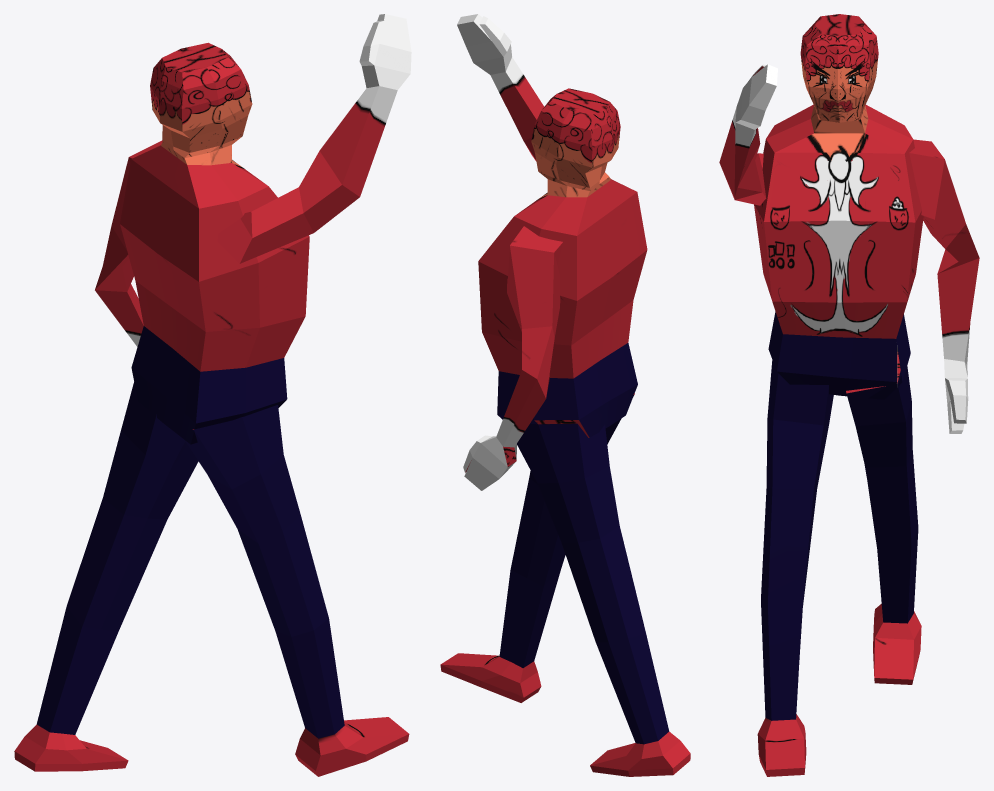
File: MecQuiTientLePoteau.fbx
3 views of the same model, side by side, from view 1: azimuth 30°, elevation 25°; view 2: azimuth 150°, elevation 25°; view 3: azimuth 270°, elevation 25° (orthographic). The views are drawn at different scales.
Visible parts, largest first — view 1: Cube.001; view 2: Cube.001; view 3: Cube.001.
Boxes of the visible parts, <box> form: Cube.001: <box>14,14,411,776</box>; Cube.001: <box>440,14,690,776</box>; Cube.001: <box>719,14,979,776</box>.
Size of the model in its own units: 202 by 454 by 150.
